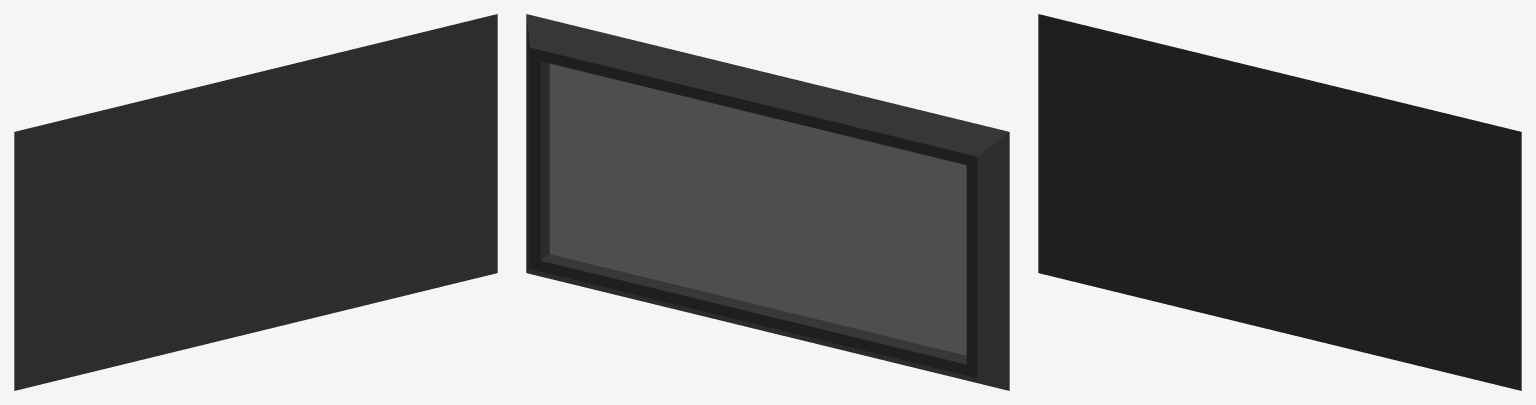
The model's file is tcg-card-keyword.glb.
The picture shows the model from 3 angles, left to right: view 1: azimuth 30°, elevation 25°; view 2: azimuth 150°, elevation 25°; view 3: azimuth 330°, elevation 25°; orthographic projection.
Visible parts, largest first — view 1: Cube; view 2: Cube; view 3: Cube.
Part boxes in pixels (<box>): Cube: <box>14,14,497,390</box>; Cube: <box>526,14,1009,390</box>; Cube: <box>1038,14,1521,390</box>.
Size of what is drawn, in the model's own units: 0.9758 by 0.5 by 0.05.
1 material, 1 textured.
